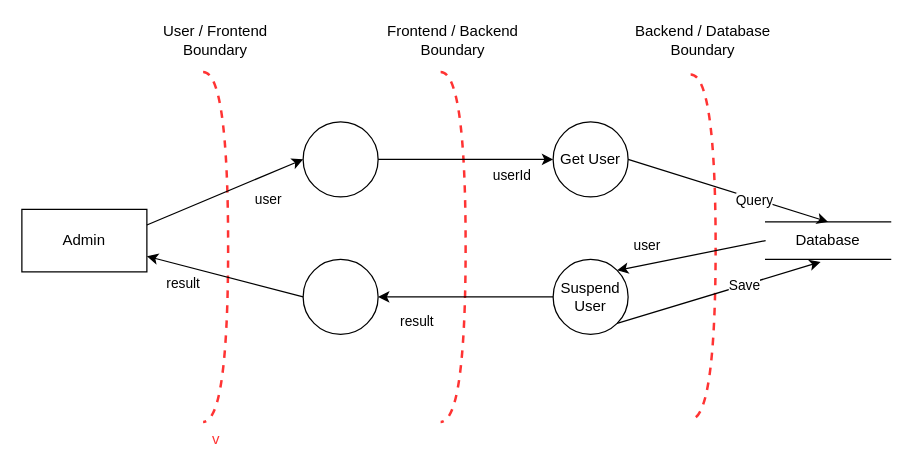
Image size: 913x469. Some labels were removed from this diagram. Each missing label, with the centre of its shape:
"Send Request" goes at [340,159].
"Show Result" goes at [340,296].
